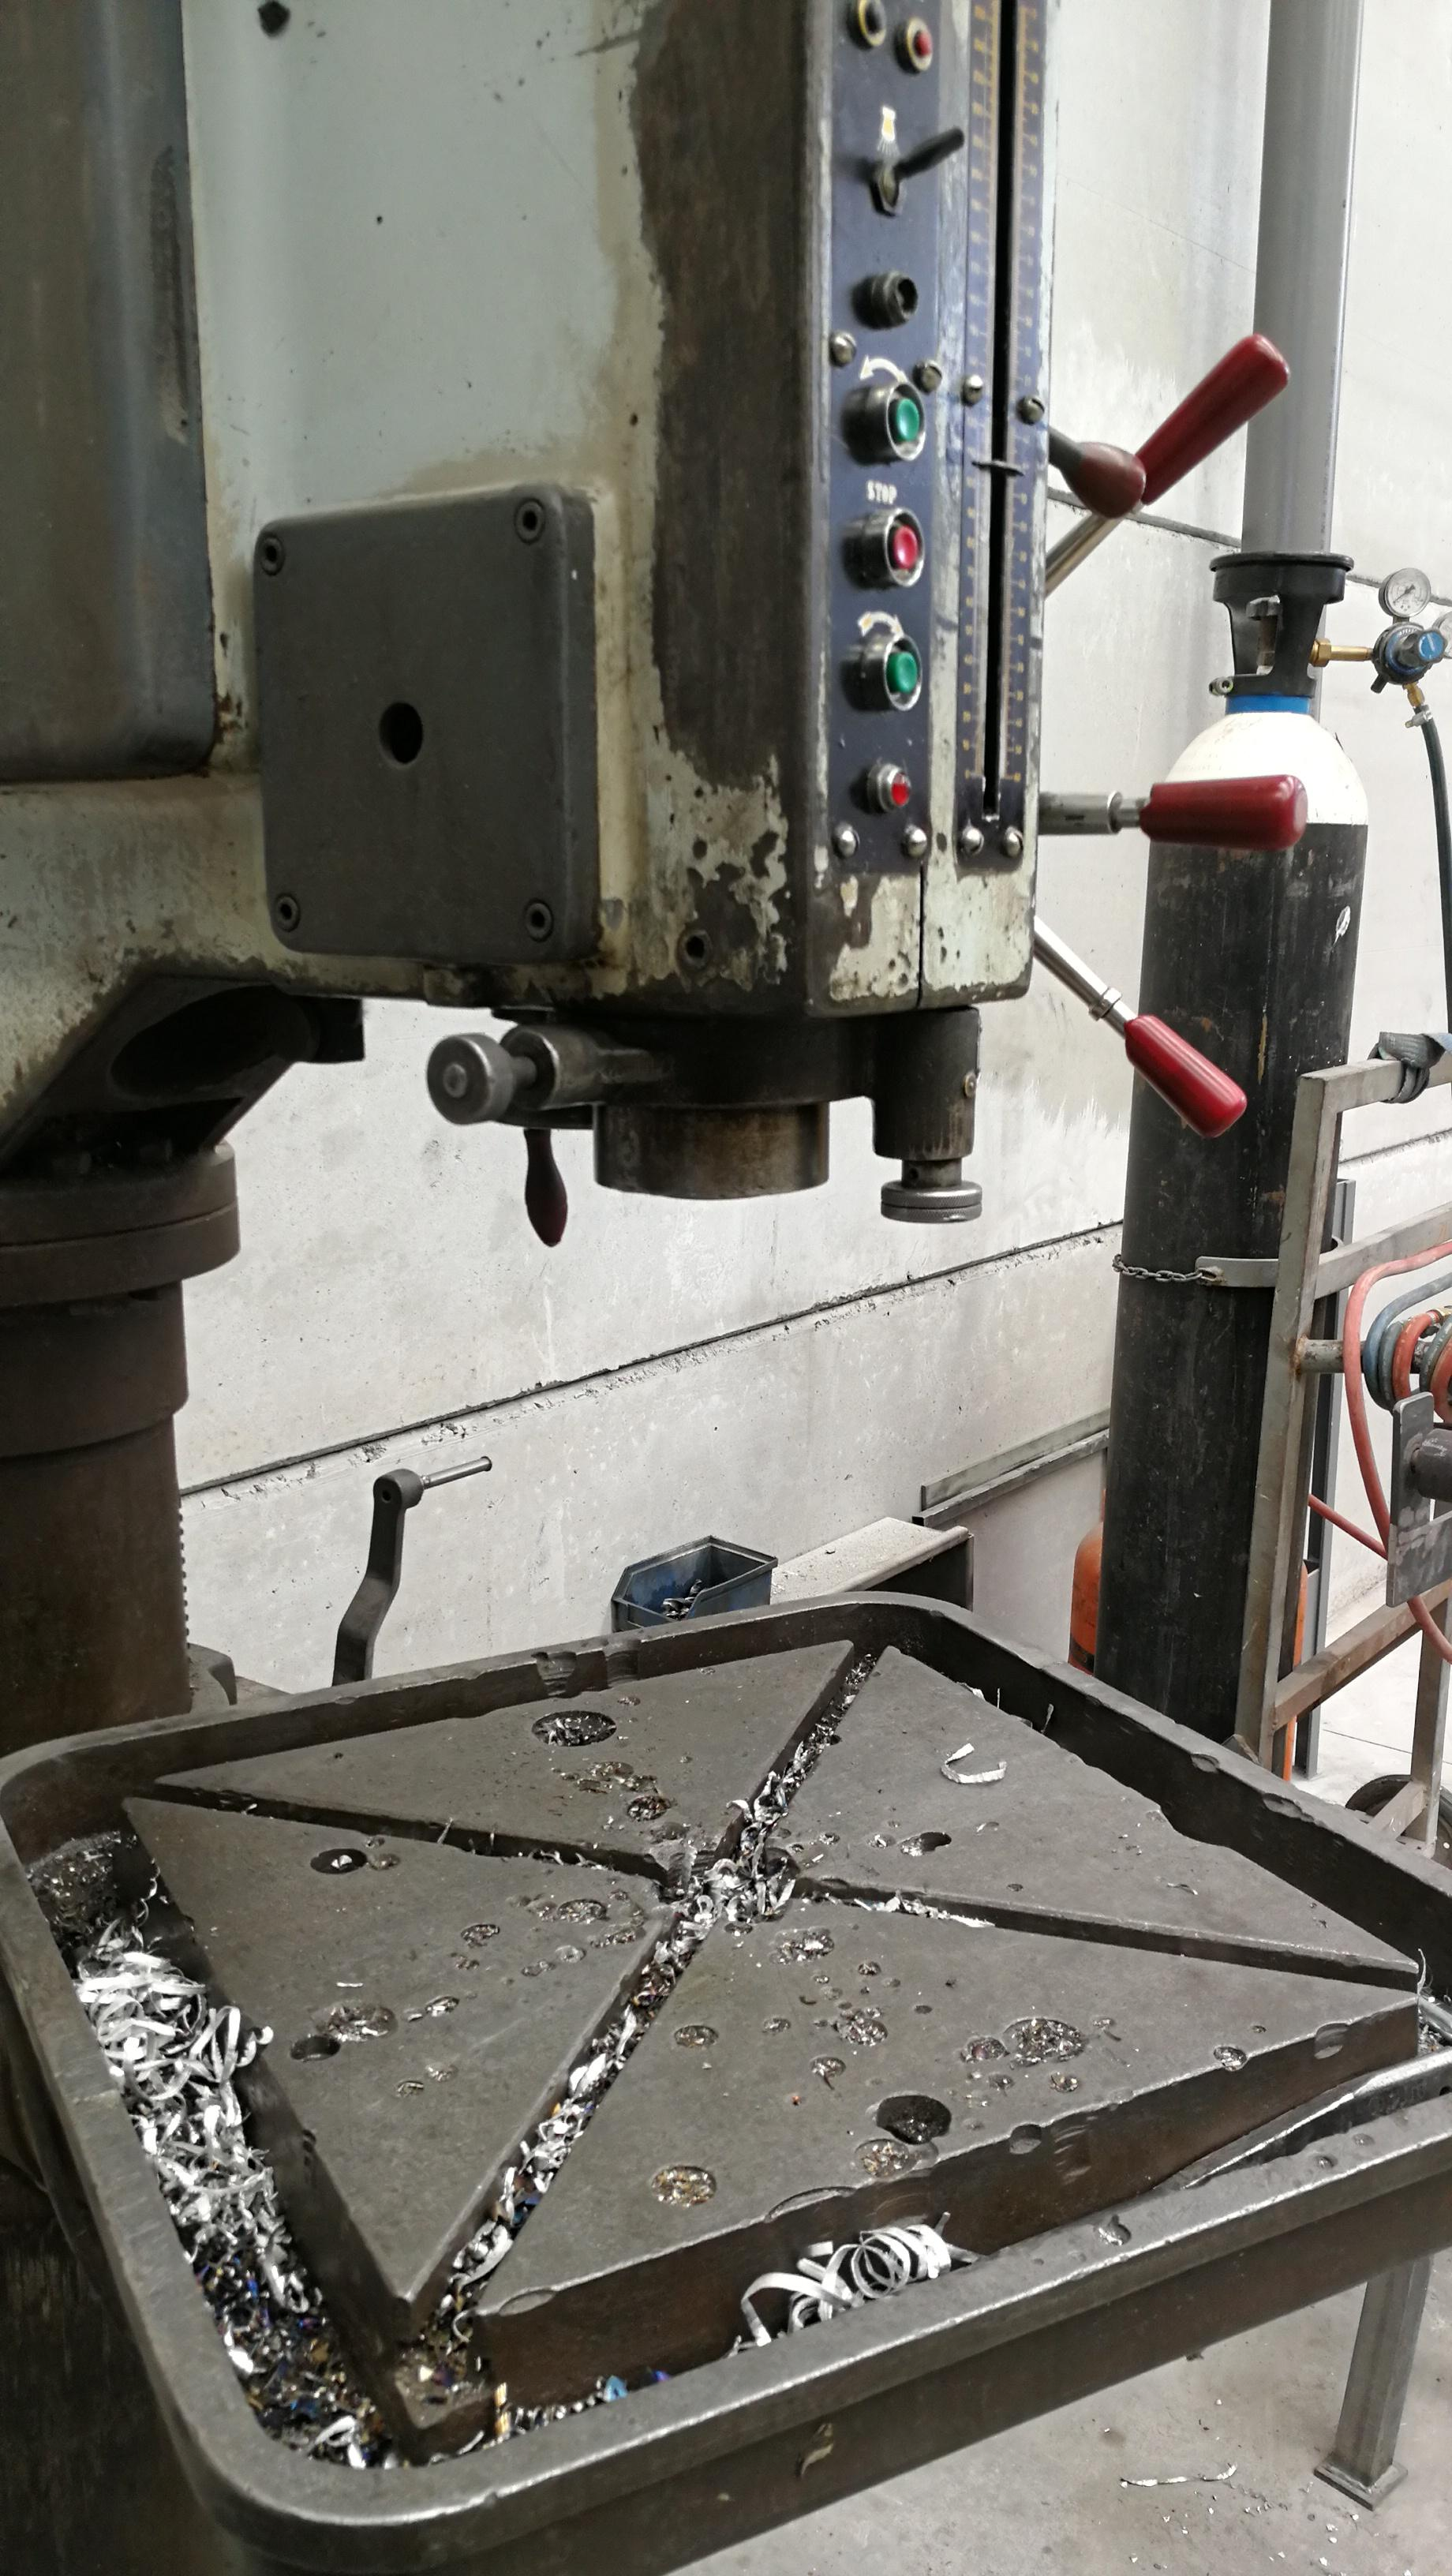falta_resguardo: (414, 971, 1042, 1290)
mandos_inseguros: (792, 0, 951, 892)
